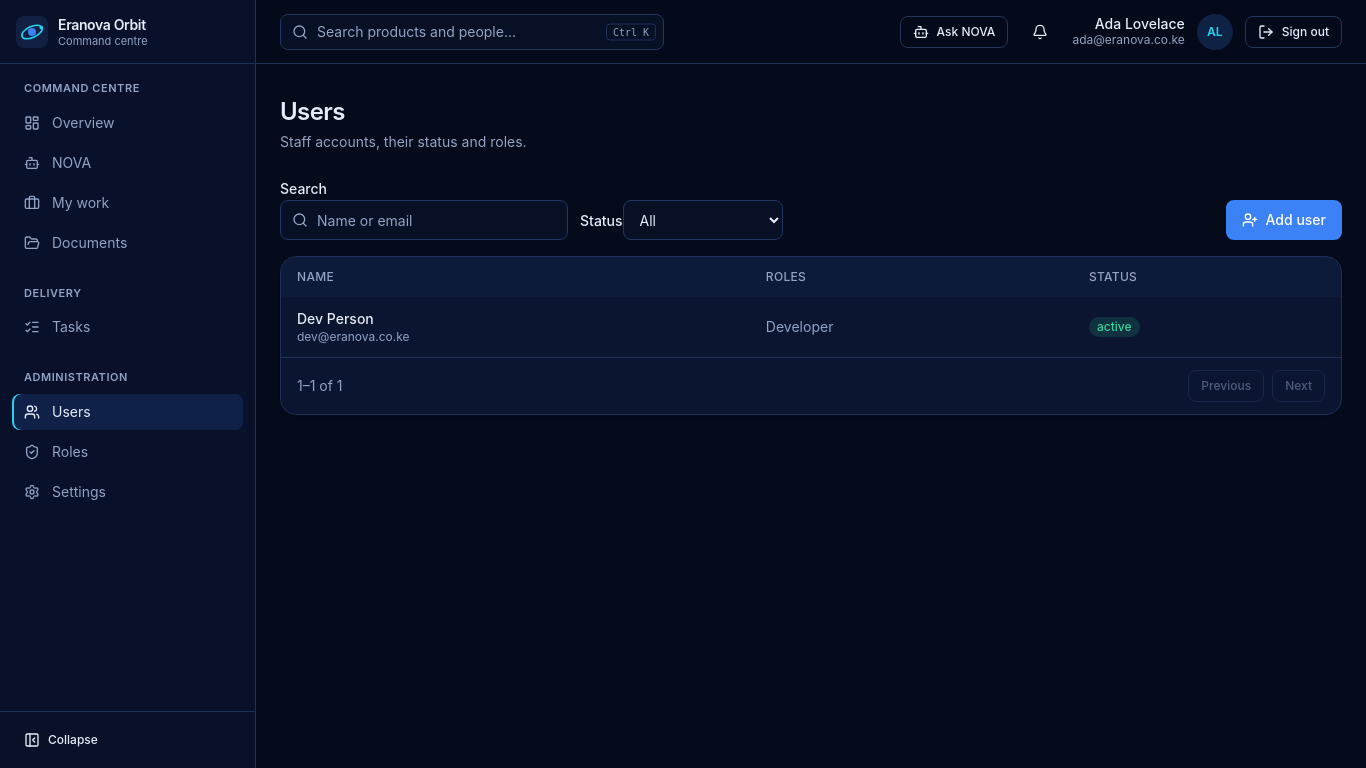
user administration › creates a user and shows the temporary password once
Expected: the text "Developer" is shown, top-left (750, 297), bottom-right (1073, 357)
Click the button "Add user".
click(1284, 220)  # box top-left (1226, 200), bottom-right (1342, 240)
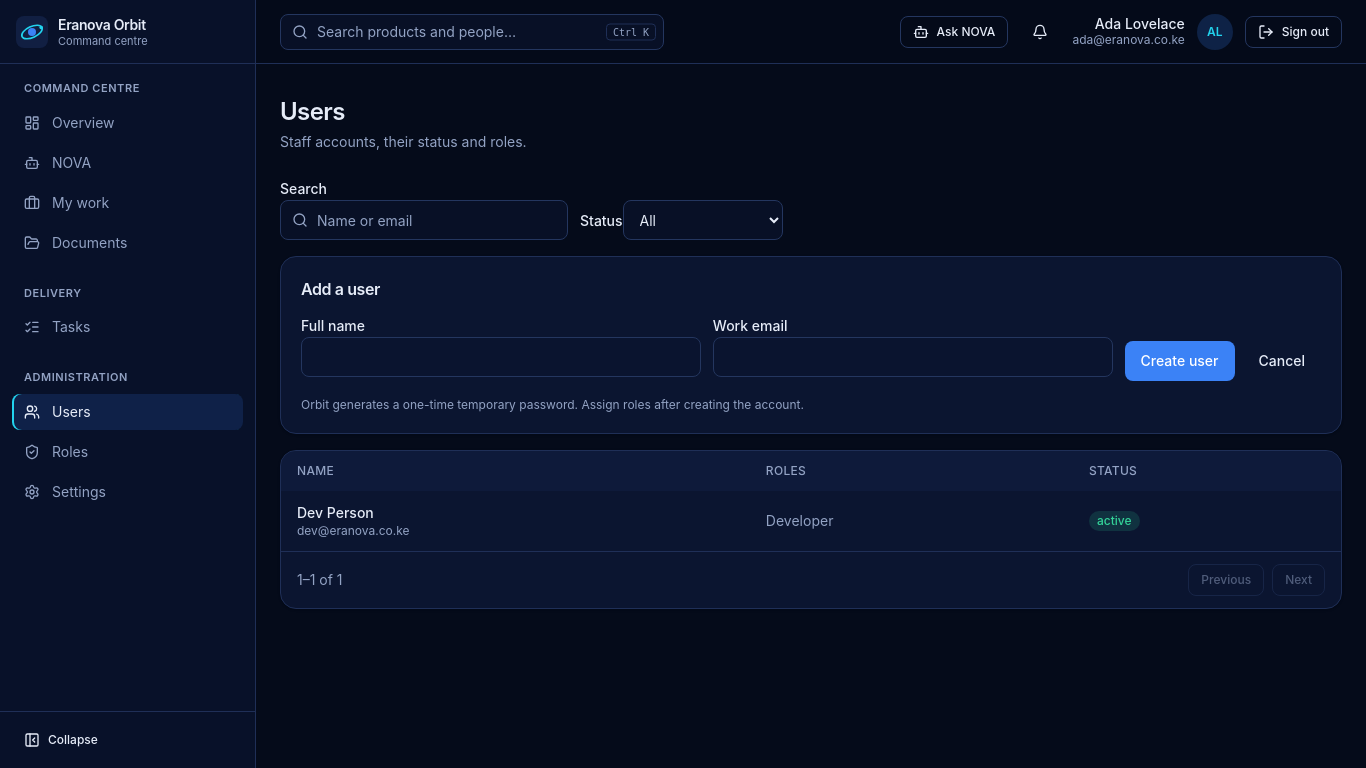
Type "New Hire" into the field labelled "Full name".
click(501, 357); type("New Hire")  # box top-left (301, 337), bottom-right (701, 377)
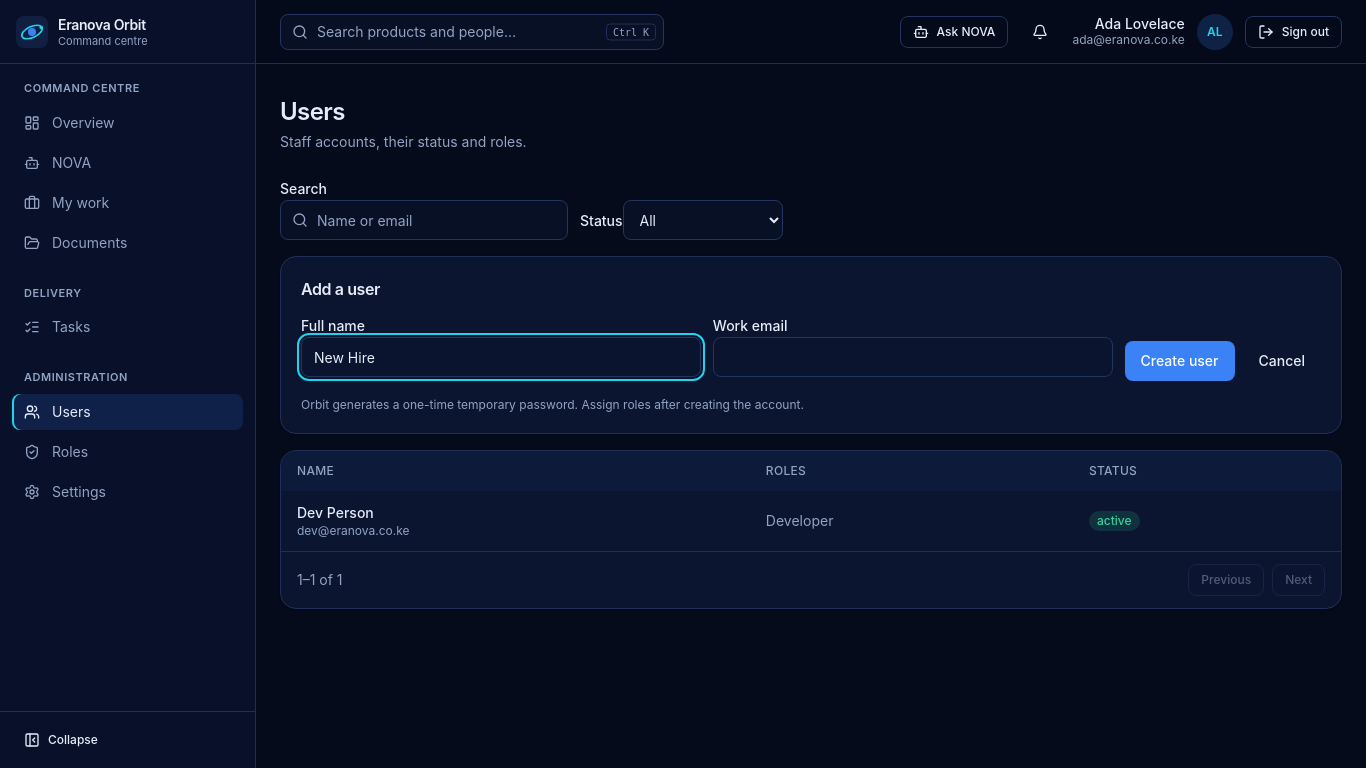
Type "new@eranova.co.ke" into the field labelled "Work email".
click(913, 357); type("new@eranova.co.ke")  # box top-left (713, 337), bottom-right (1113, 377)
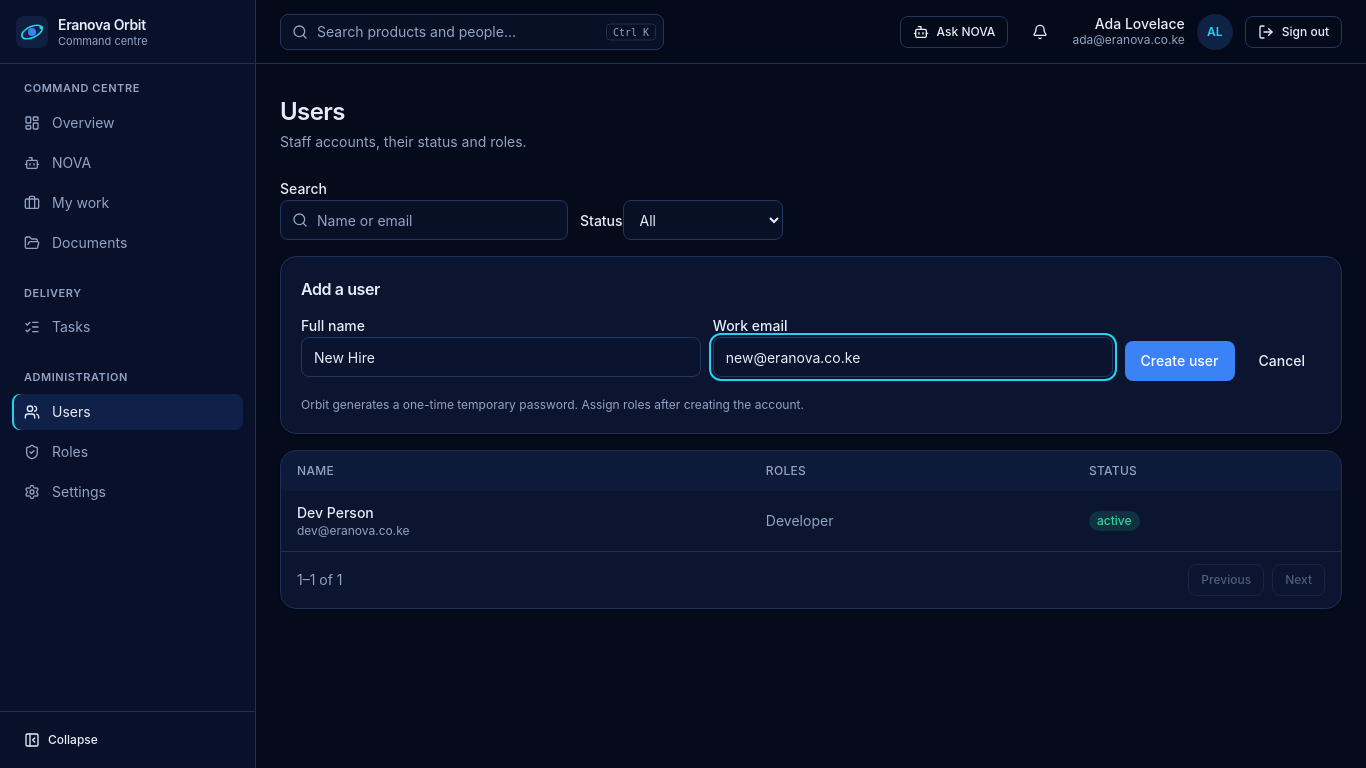
Click the button "Create user".
click(1180, 361)  # box top-left (1125, 341), bottom-right (1234, 381)
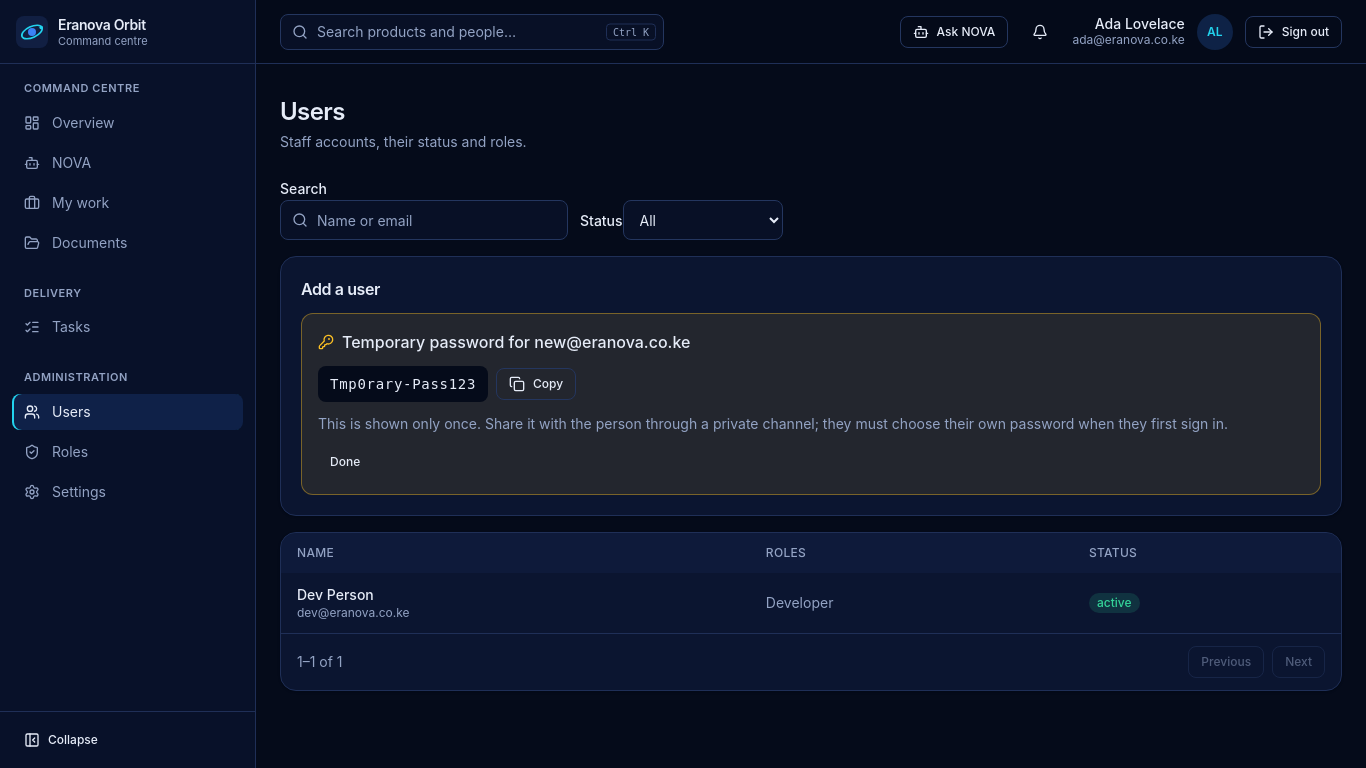
Expected: the text "Tmp0rary-Pass123" is shown, top-left (318, 366), bottom-right (488, 402)
Expected: the text "shown only once" is shown, top-left (318, 415), bottom-right (1228, 432)
